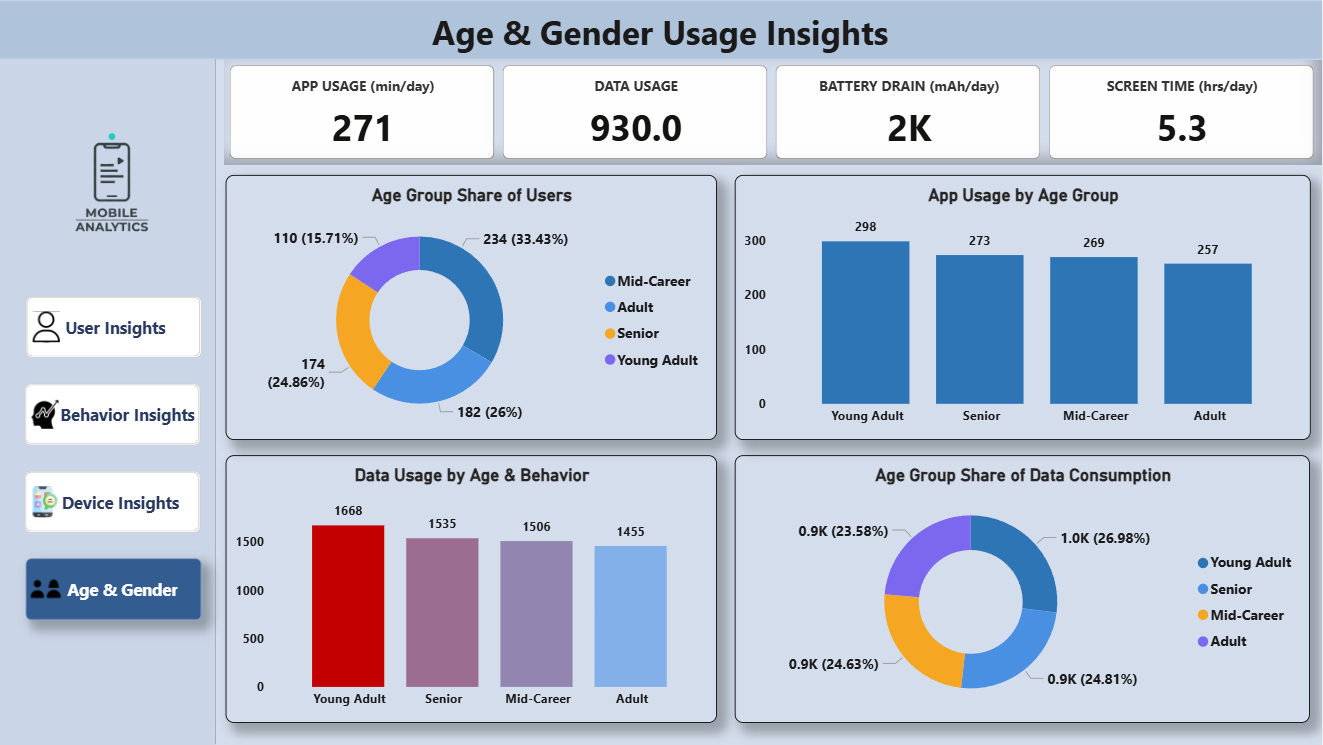

The page's visual inventory and layout, read from the dashboard file:
{"tool":"powerbi","page":{"name":"Age&Gender","canvas":[1280,720],"ordinal":3},"visuals":[{"type":"shape","box":[0,0,1280.5,58],"z":0},{"type":"shape","box":[0,57.1,210,662.9],"z":1000},{"type":"actionButton","box":[27.1,285.7,170,60],"z":2000},{"type":"actionButton","box":[25.7,370.5,170,60],"z":3000},{"type":"actionButton","box":[25.7,455.2,170,60],"z":4000},{"type":"actionButton","box":[27.1,540,170,60],"z":5000},{"type":"clusteredColumnChart","title":"App Usage  by Age Group","fields":{"Category":["Dim_AgeBands.AgeGroup"],"Y":["Calculate.Average Use"]},"box":[712,168.9,556.4,256.1],"z":6000},{"type":"donutChart","title":"Age Group Share of Users","fields":{"Category":["Dim_Users.AgeGroup"],"Y":["Calculate.Users"]},"box":[219.9,168.9,474.7,256.1],"z":7000},{"type":"clusteredColumnChart","title":"Data Usage by Age & Behavior","fields":{"Category":["Dim_Users.AgeGroup"],"Y":["Calculate.Average Battery"]},"box":[219.9,439.8,474.7,258.8],"z":8000},{"type":"image","box":[0,65.7,220,220],"z":9000},{"type":"cardVisual","title":"APP USAGE","fields":{"Data":["Calculate.AvgUse","Calculate.AvgData","Calculate.AvgBatt","Calculate.AvgScreen"]},"box":[219.4,57.7,1060.6,101.9],"z":10000},{"type":"donutChart","title":"Age Group Share of Data Consumption","fields":{"Category":["Dim_AgeBands.AgeGroup"],"Y":["Calculate.Average Data"]},"box":[712,440,556,259],"z":11000}]}

Visuals, with their boxes in screenshot pixels (x1, y1, x2, y2), scaled from the page's 1280x720 canvas onto the 1323x745 screenshot:
shape: [x1=0, y1=0, x2=1322, y2=60]
shape: [x1=0, y1=59, x2=217, y2=744]
actionButton: [x1=28, y1=296, x2=204, y2=358]
actionButton: [x1=27, y1=383, x2=202, y2=445]
actionButton: [x1=27, y1=471, x2=202, y2=533]
actionButton: [x1=28, y1=559, x2=204, y2=621]
"App Usage  by Age Group" clusteredColumnChart: [x1=736, y1=175, x2=1311, y2=440]
"Age Group Share of Users" donutChart: [x1=227, y1=175, x2=718, y2=440]
"Data Usage by Age & Behavior" clusteredColumnChart: [x1=227, y1=455, x2=718, y2=723]
image: [x1=0, y1=68, x2=227, y2=296]
"APP USAGE" cardVisual: [x1=227, y1=60, x2=1322, y2=165]
"Age Group Share of Data Consumption" donutChart: [x1=736, y1=455, x2=1311, y2=723]
